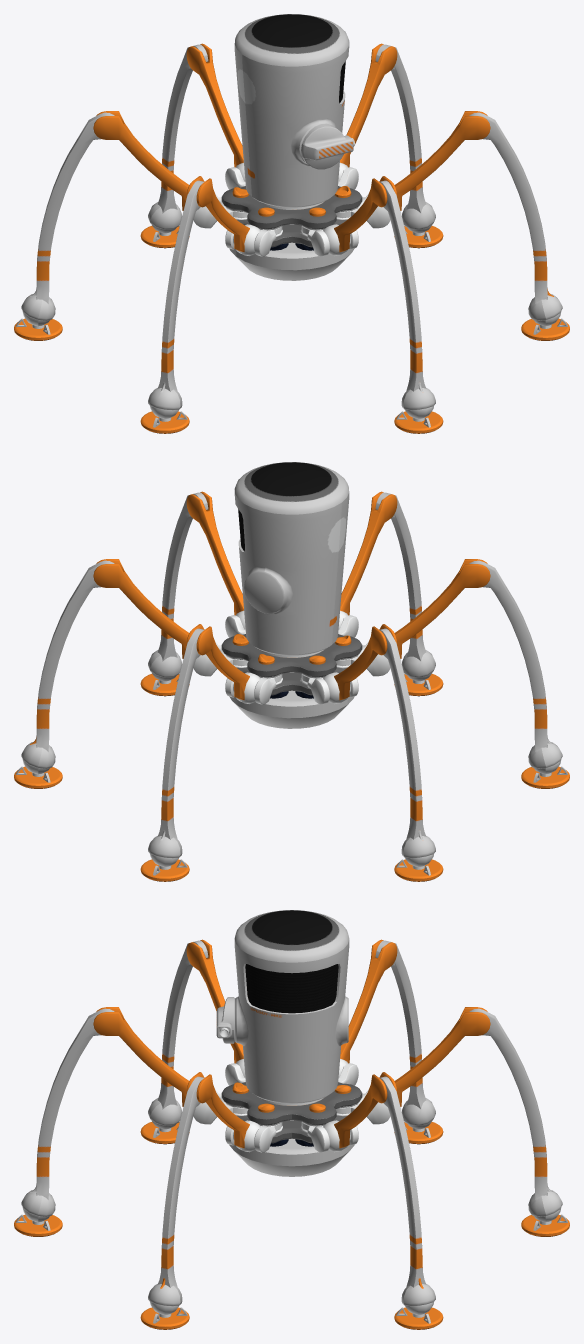
Rendered from SpiderSentry.glb.
3 views of the same model, one above another, from view 1: azimuth 30°, elevation 25°; view 2: azimuth 150°, elevation 25°; view 3: azimuth 270°, elevation 25° (orthographic).
Parts seen in each view (by area): view 1: MSH_SpiderSentry; view 2: MSH_SpiderSentry; view 3: MSH_SpiderSentry.
Boxes of the visible parts, bbox=[...] form: MSH_SpiderSentry: bbox=[14, 14, 569, 433]; MSH_SpiderSentry: bbox=[14, 462, 569, 881]; MSH_SpiderSentry: bbox=[14, 910, 569, 1329].
Size of the model in its own units: 0.5851 by 0.4026 by 0.6666.
Materials: 1 (1 with a texture image).
